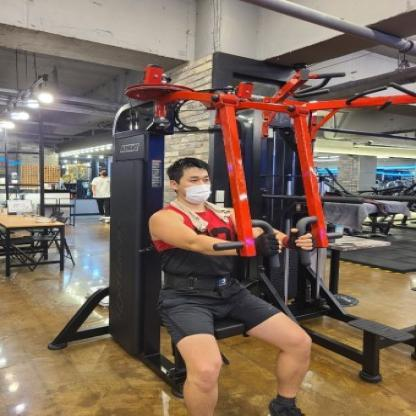chest fly machine: (45, 59, 416, 416)
